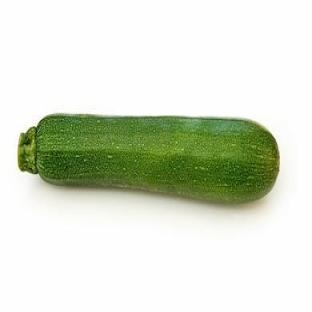Zucchini: (19, 114, 279, 202)
